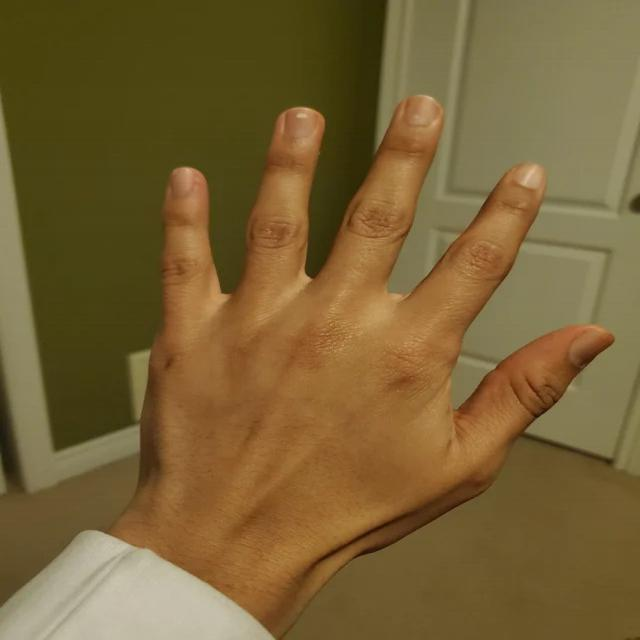bare_hand: (104, 96, 612, 595)
